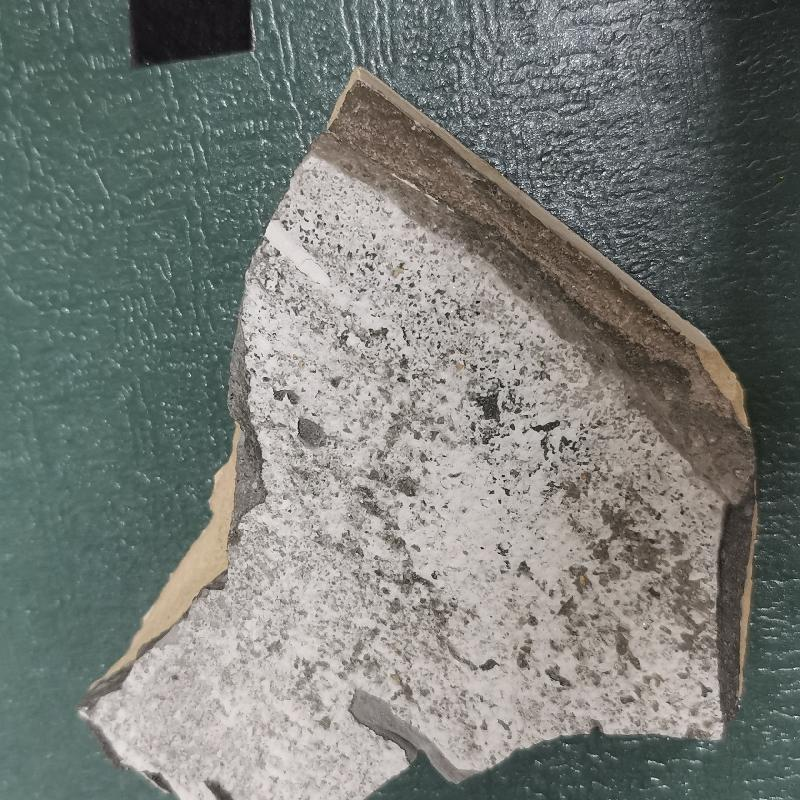tile: (30, 65, 760, 800)
